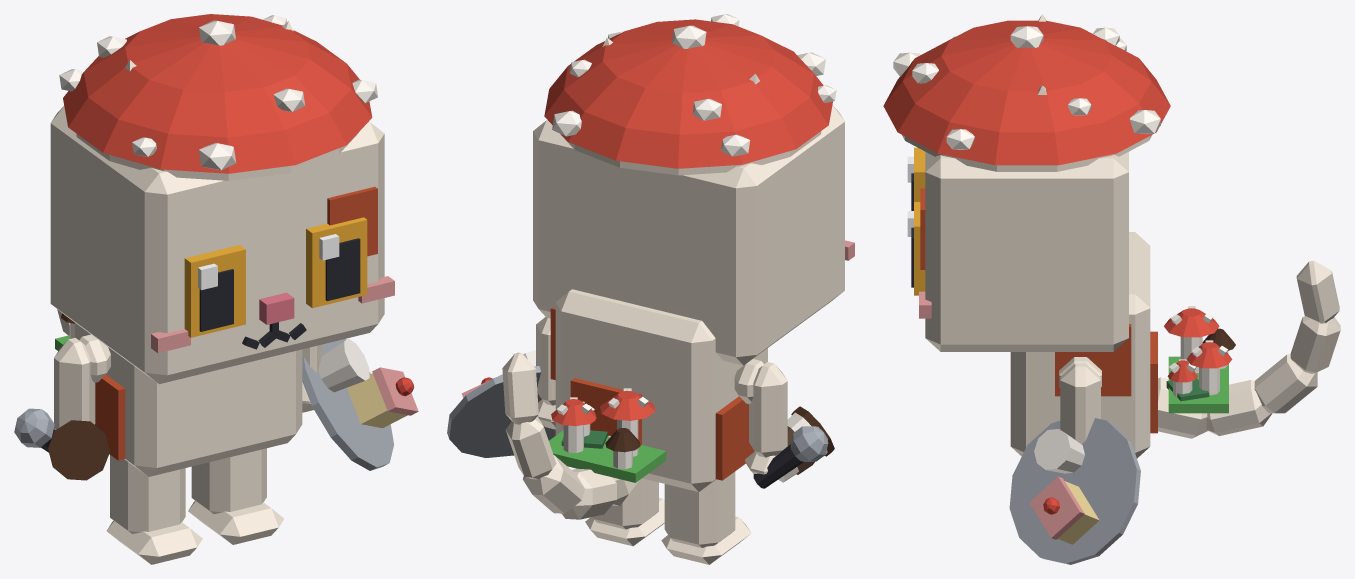
The model's file is CatCafe_Cat_Toadstool_Work.glb.
3 renders of one model, left to right at view 1: azimuth 30°, elevation 25°; view 2: azimuth 150°, elevation 25°; view 3: azimuth 270°, elevation 25°, orthographic. The views are drawn at different scales.
Parts seen in each view (by area): view 1: CatCafe_Cat_Toadstool_Work_Head, CatCafe_Cat_Toadstool_Work_Prop, CatCafe_Cat_Toadstool_Work_Body, CatCafe_Cat_Toadstool_Work_Held_Waiter, CatCafe_Cat_Toadstool_Work_LegB2, CatCafe_Cat_Toadstool_Work_LegB1, CatCafe_Cat_Toadstool_Work_Eye2, CatCafe_Cat_Toadstool_Work_Eye1, CatCafe_Cat_Toadstool_Work_Glow, CatCafe_Cat_Toadstool_Work_LegF2, CatCafe_Cat_Toadstool_Work_Held_Barista, CatCafe_Cat_Toadstool_Work_Held_Entertainer (+1 smaller); view 2: CatCafe_Cat_Toadstool_Work_Head, CatCafe_Cat_Toadstool_Work_Prop, CatCafe_Cat_Toadstool_Work_Body, CatCafe_Cat_Toadstool_Work_Tail, CatCafe_Cat_Toadstool_Work_Prop2, CatCafe_Cat_Toadstool_Work_LegB2, CatCafe_Cat_Toadstool_Work_Held_Waiter, CatCafe_Cat_Toadstool_Work_Glow, CatCafe_Cat_Toadstool_Work_LegF2, CatCafe_Cat_Toadstool_Work_LegB1, CatCafe_Cat_Toadstool_Work_Held_Entertainer, CatCafe_Cat_Toadstool_Work_LegF1 (+1 smaller); view 3: CatCafe_Cat_Toadstool_Work_Head, CatCafe_Cat_Toadstool_Work_Prop, CatCafe_Cat_Toadstool_Work_Held_Waiter, CatCafe_Cat_Toadstool_Work_Body, CatCafe_Cat_Toadstool_Work_Tail, CatCafe_Cat_Toadstool_Work_Prop2, CatCafe_Cat_Toadstool_Work_Glow, CatCafe_Cat_Toadstool_Work_LegF1, CatCafe_Cat_Toadstool_Work_Eye1, CatCafe_Cat_Toadstool_Work_Eye2.
Boxes of the visible parts, bbox=[...] form: CatCafe_Cat_Toadstool_Work_Head: bbox=[50, 106, 394, 384]; CatCafe_Cat_Toadstool_Work_Prop: bbox=[63, 14, 372, 180]; CatCafe_Cat_Toadstool_Work_Body: bbox=[75, 323, 302, 476]; CatCafe_Cat_Toadstool_Work_Held_Waiter: bbox=[302, 338, 418, 470]; CatCafe_Cat_Toadstool_Work_LegB2: bbox=[106, 455, 202, 564]; CatCafe_Cat_Toadstool_Work_LegB1: bbox=[188, 448, 284, 544]; CatCafe_Cat_Toadstool_Work_Eye2: bbox=[184, 245, 245, 337]; CatCafe_Cat_Toadstool_Work_Eye1: bbox=[306, 217, 367, 308]; CatCafe_Cat_Toadstool_Work_Glow: bbox=[59, 15, 377, 170]; CatCafe_Cat_Toadstool_Work_LegF2: bbox=[54, 337, 95, 429]; CatCafe_Cat_Toadstool_Work_Held_Barista: bbox=[48, 420, 109, 480]; CatCafe_Cat_Toadstool_Work_Held_Entertainer: bbox=[14, 408, 55, 452]; CatCafe_Cat_Toadstool_Work_Head: bbox=[533, 105, 854, 365]; CatCafe_Cat_Toadstool_Work_Prop: bbox=[544, 19, 832, 175]; CatCafe_Cat_Toadstool_Work_Body: bbox=[550, 289, 767, 491]; CatCafe_Cat_Toadstool_Work_Tail: bbox=[502, 352, 639, 519]; CatCafe_Cat_Toadstool_Work_Prop2: bbox=[549, 388, 666, 482]; CatCafe_Cat_Toadstool_Work_LegB2: bbox=[661, 471, 751, 564]; CatCafe_Cat_Toadstool_Work_Held_Waiter: bbox=[447, 350, 555, 457]; CatCafe_Cat_Toadstool_Work_Glow: bbox=[552, 14, 836, 156]; CatCafe_Cat_Toadstool_Work_LegF2: bbox=[745, 362, 787, 474]; CatCafe_Cat_Toadstool_Work_LegB1: bbox=[585, 478, 664, 546]; CatCafe_Cat_Toadstool_Work_Held_Entertainer: bbox=[753, 426, 828, 488]; CatCafe_Cat_Toadstool_Work_LegF1: bbox=[536, 317, 555, 429]; CatCafe_Cat_Toadstool_Work_Head: bbox=[919, 152, 1128, 351]; CatCafe_Cat_Toadstool_Work_Prop: bbox=[883, 20, 1170, 171]; CatCafe_Cat_Toadstool_Work_Held_Waiter: bbox=[1009, 418, 1140, 564]; CatCafe_Cat_Toadstool_Work_Body: bbox=[1010, 232, 1157, 458]; CatCafe_Cat_Toadstool_Work_Tail: bbox=[1158, 260, 1340, 438]; CatCafe_Cat_Toadstool_Work_Prop2: bbox=[1164, 306, 1235, 413]; CatCafe_Cat_Toadstool_Work_Glow: bbox=[893, 26, 1160, 149]; CatCafe_Cat_Toadstool_Work_LegF1: bbox=[1060, 363, 1100, 444]; CatCafe_Cat_Toadstool_Work_Eye1: bbox=[907, 202, 925, 295]; CatCafe_Cat_Toadstool_Work_Eye2: bbox=[907, 147, 925, 210].
Bounding box in the file's own units: 1.53 × 2.02 × 1.71.
Materials: 1 (1 with a texture image).
